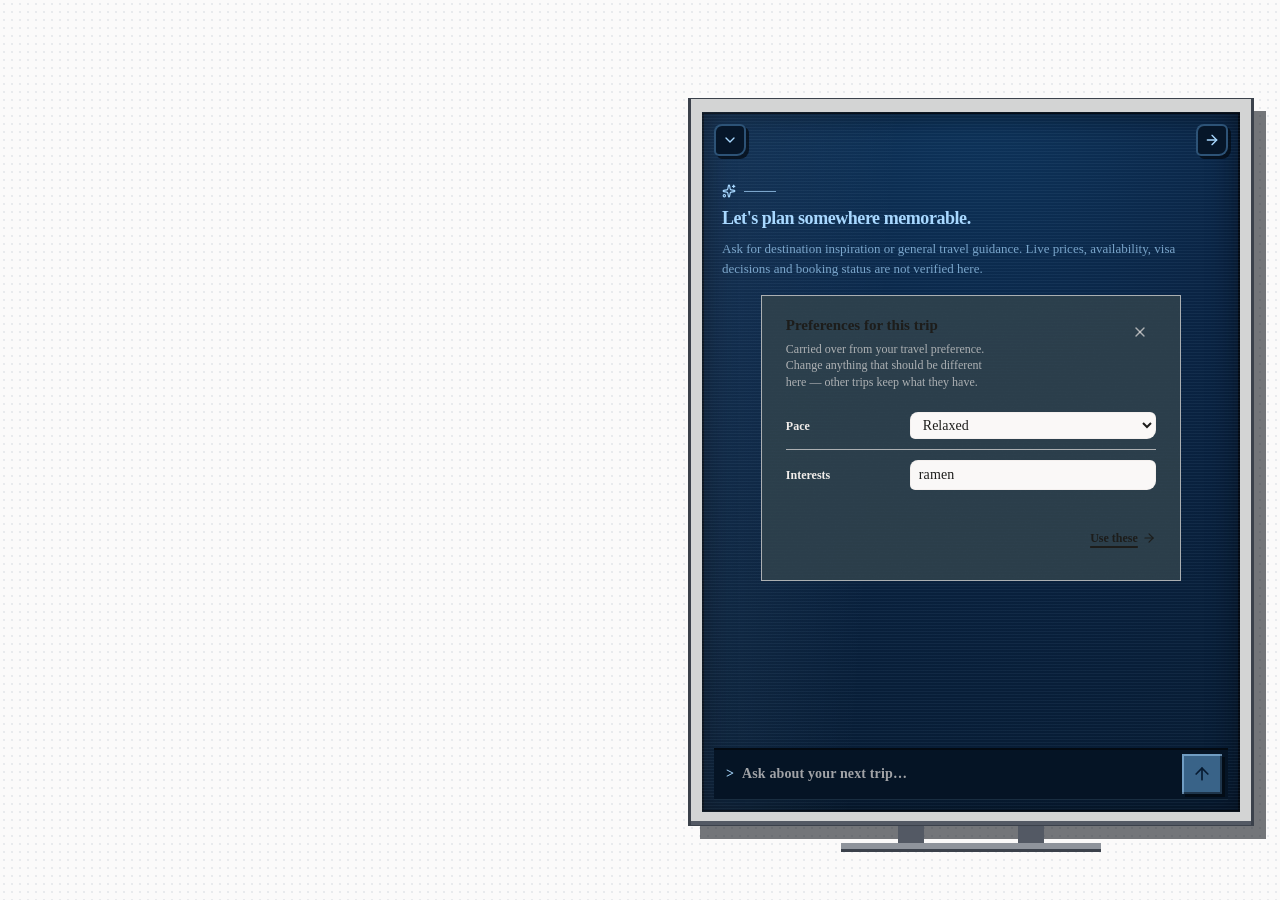
Scenario: the trip's preference card › keeps the card up when the save is refused, so the answer can be corrected
Check: the element with test id "trip-preference-card" is shown, box [761,295,1181,581]
Select "Packed" in the dropdown named "trip_pace" at [1033, 426], box [910,412,1156,439]
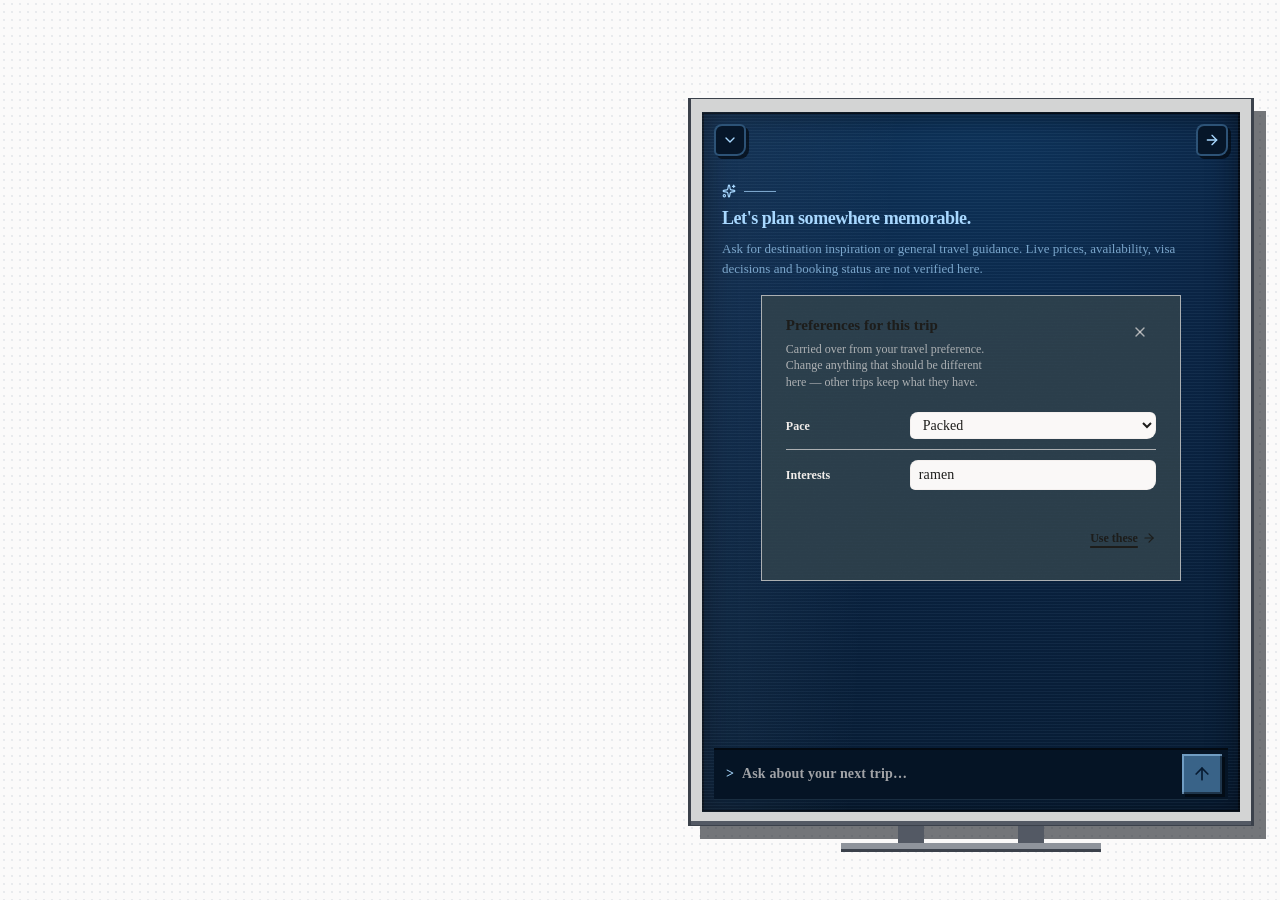
Click the button with test id "trip-preference-submit" at [1123, 538], box [1090,516,1156,560]
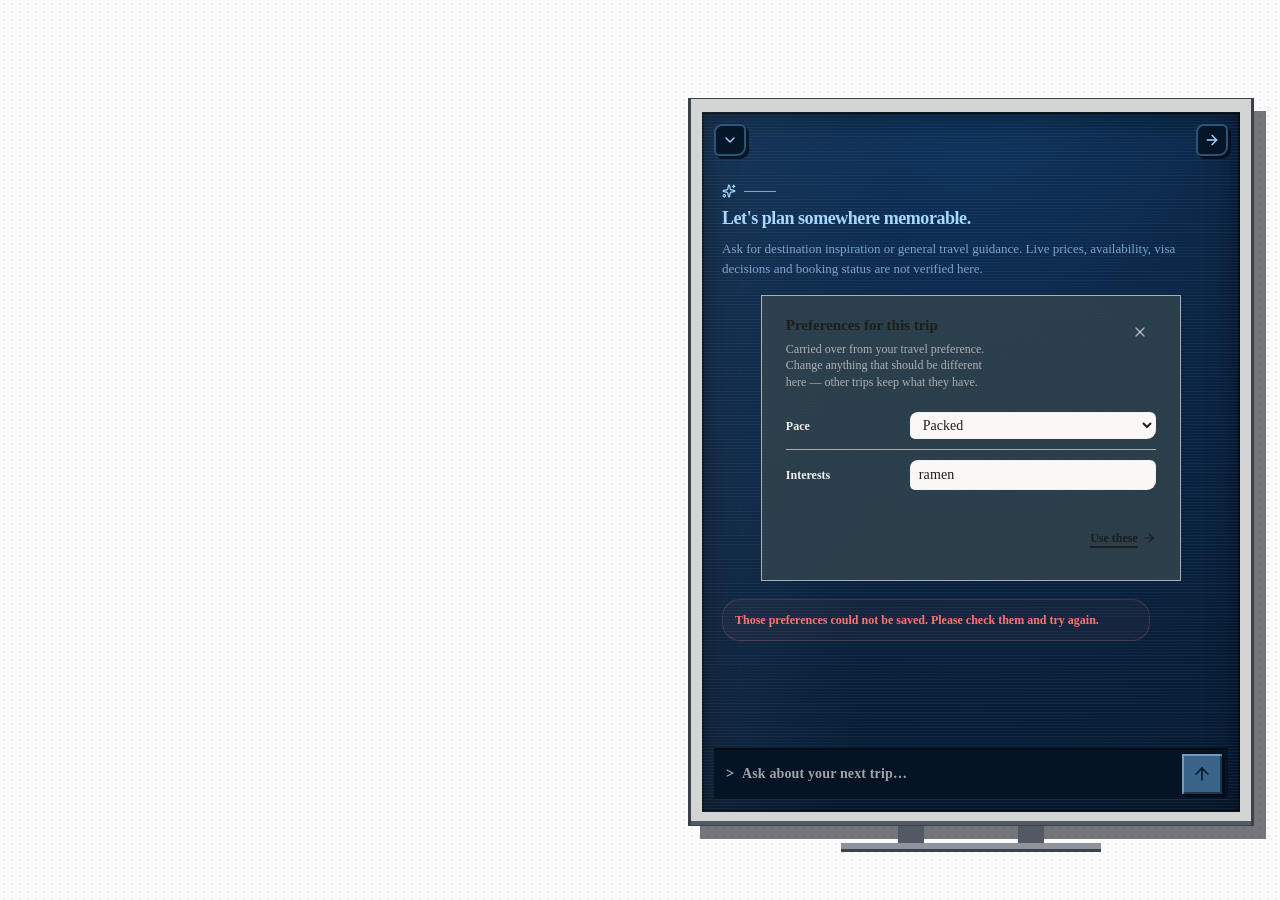
Check: the element with test id "trip-preference-card" is shown, box [761,295,1181,581]
Check: the message shows "could not be saved", box [735,613,1099,627]
